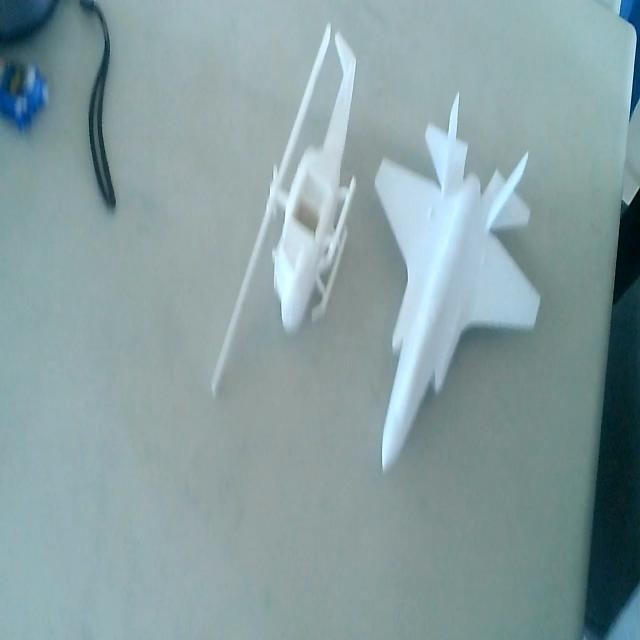Helicopter: (206, 25, 360, 400)
Jet: (371, 97, 545, 480)
